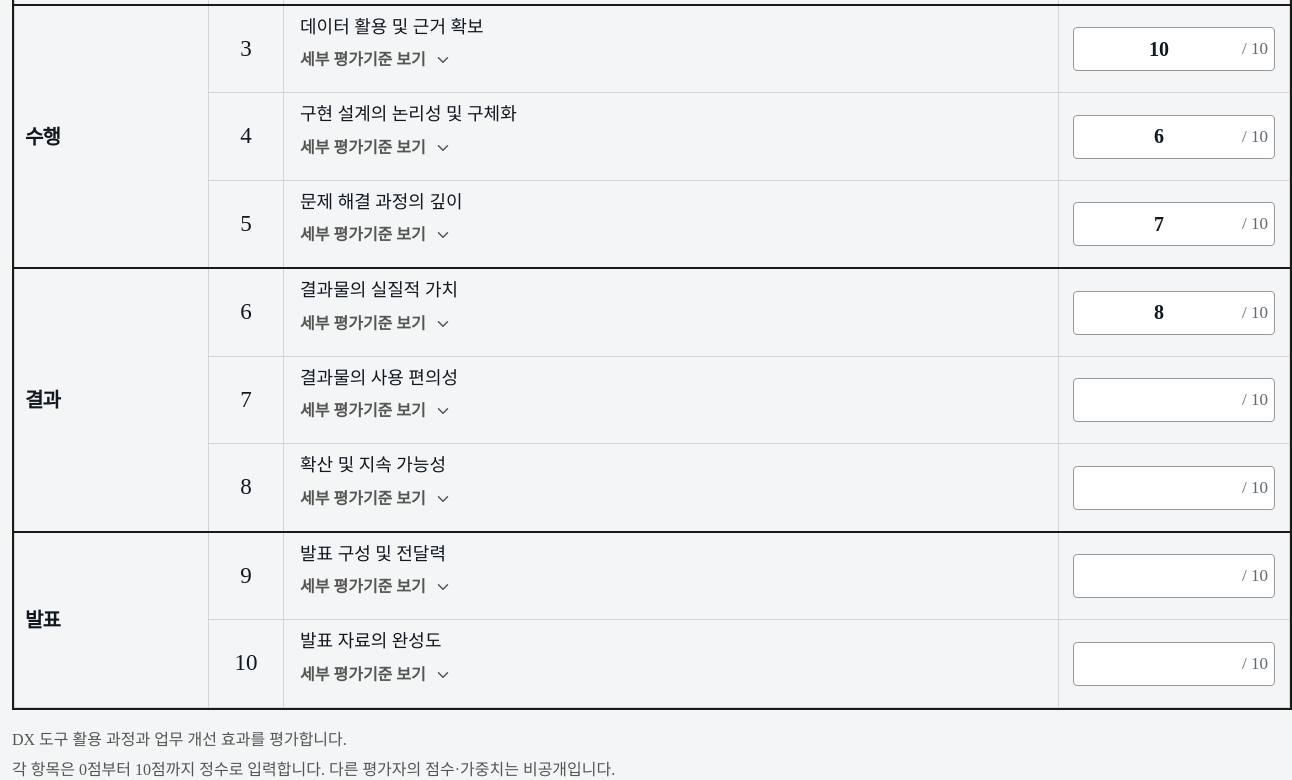
EvaluationFormScreen autosave integration › persists a valid score automatically through the LocalStorage repository
The width and height of the screenshot is (1292, 780).
(page scrolled)
Type "9" into the field named "결과물의 사용 편의성 점수".
click(1174, 400); type("9")  # box [1073, 378, 1275, 422]
(page scrolled)
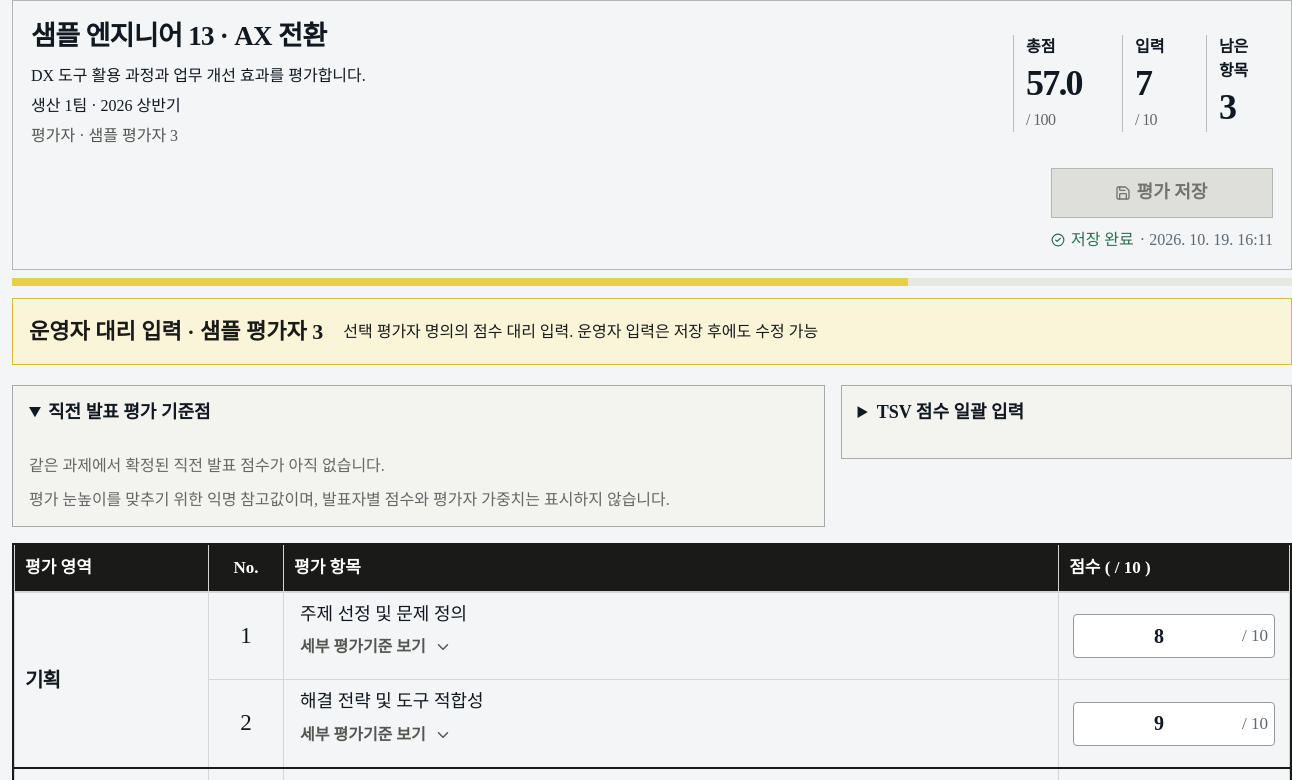
Result: the text "저장 완료" is shown at [1071, 228, 1134, 251]
